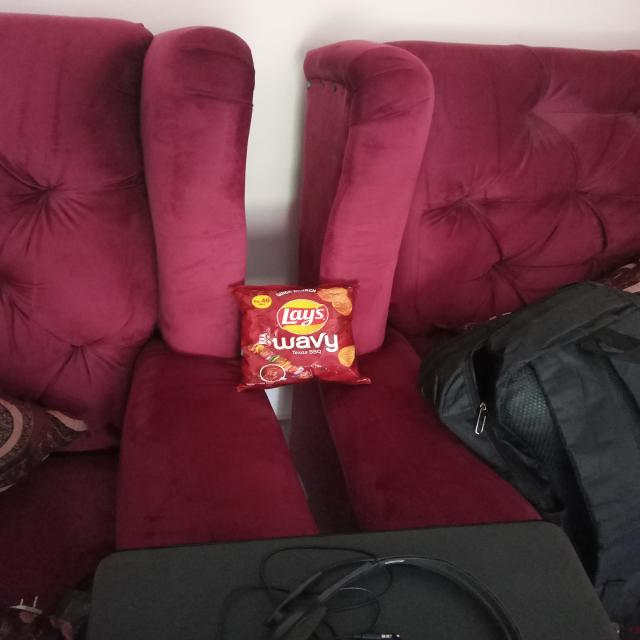Plastic: (246, 286, 357, 382)
